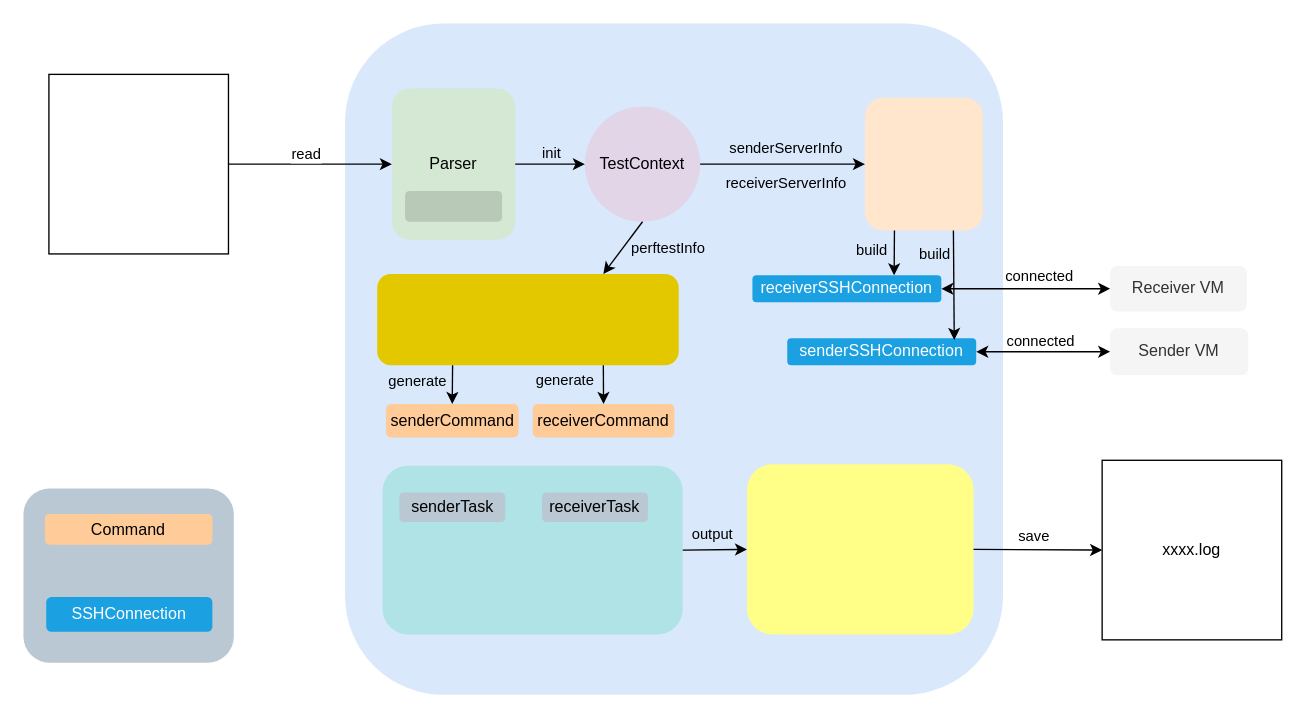
This 1305x717 diagram has some shape labels left out. The box of each missing label's shape, as (x1, y1, x2, y2) in pixels:
auto_test_config.json: (48, 73, 228, 254)
Collector: (746, 464, 973, 634)
Command Generator: (377, 273, 678, 364)
Executor: (382, 465, 682, 634)
Helper: (864, 97, 982, 230)
JsonObject: (404, 190, 501, 221)
Task: (23, 488, 233, 662)
